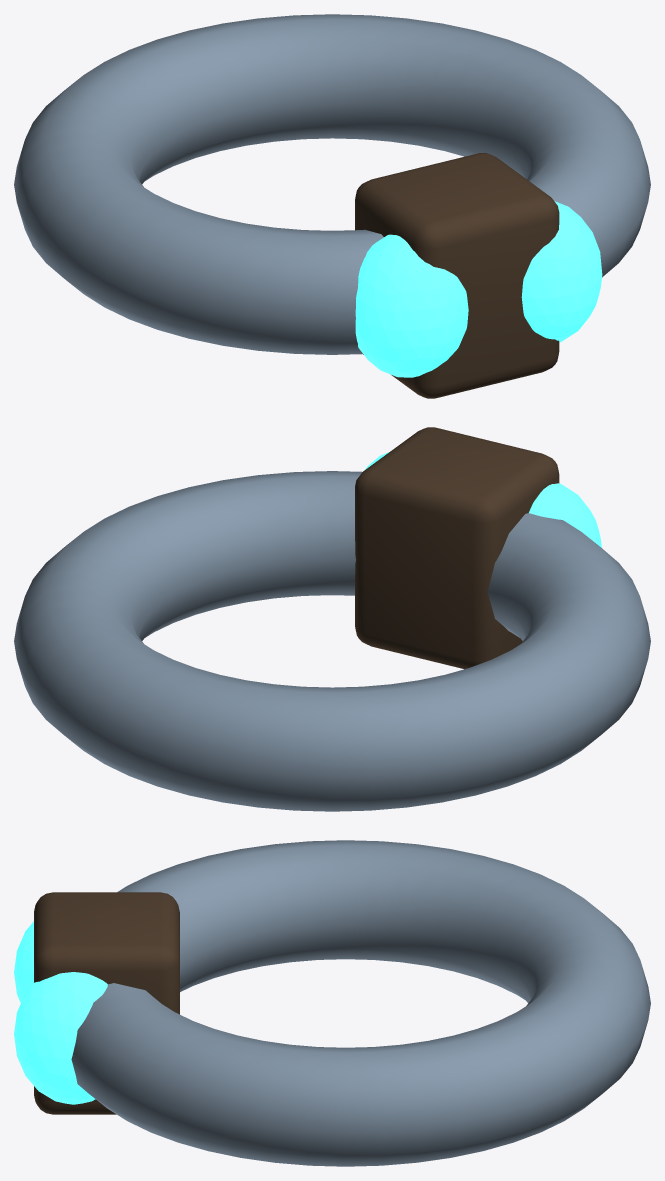
Rendered from bracelet_v5.glb.
3 views of the same model, one above another, from view 1: azimuth 30°, elevation 25°; view 2: azimuth 150°, elevation 25°; view 3: azimuth 270°, elevation 25° (orthographic). The views are drawn at different scales.
Parts seen in each view (by area): view 1: TORQUE_BRACELET_PRIMARY, TORQUE_GAP_SECONDARY, TORQUE_END_EMISSIVE, TORQUE_END_EMISSIVE.001; view 2: TORQUE_BRACELET_PRIMARY, TORQUE_GAP_SECONDARY, TORQUE_END_EMISSIVE; view 3: TORQUE_BRACELET_PRIMARY, TORQUE_GAP_SECONDARY, TORQUE_END_EMISSIVE.001, TORQUE_END_EMISSIVE.
Part boxes in pixels (<box>): TORQUE_BRACELET_PRIMARY: <box>14,14,650,354</box>; TORQUE_GAP_SECONDARY: <box>355,153,559,398</box>; TORQUE_END_EMISSIVE: <box>355,234,468,377</box>; TORQUE_END_EMISSIVE.001: <box>521,201,602,342</box>; TORQUE_BRACELET_PRIMARY: <box>14,471,650,811</box>; TORQUE_GAP_SECONDARY: <box>355,427,559,669</box>; TORQUE_END_EMISSIVE: <box>529,483,601,547</box>; TORQUE_BRACELET_PRIMARY: <box>71,840,650,1166</box>; TORQUE_GAP_SECONDARY: <box>34,892,179,1114</box>; TORQUE_END_EMISSIVE.001: <box>14,972,107,1104</box>; TORQUE_END_EMISSIVE: <box>14,921,33,1002</box>.
Bounding box in the file's own units: 1.84 × 0.56 × 1.92.
